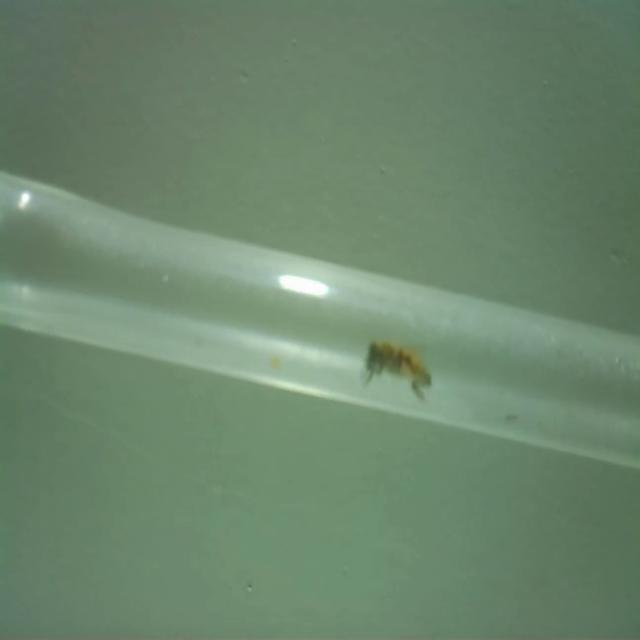Honeybee-Detection: (363, 337, 433, 402)
